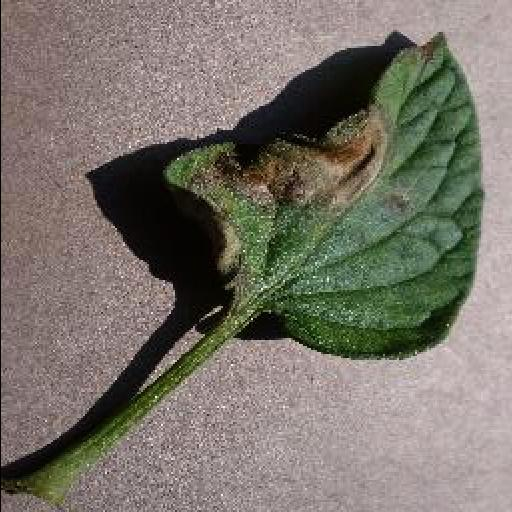disease_tomato: (154, 33, 486, 359)
